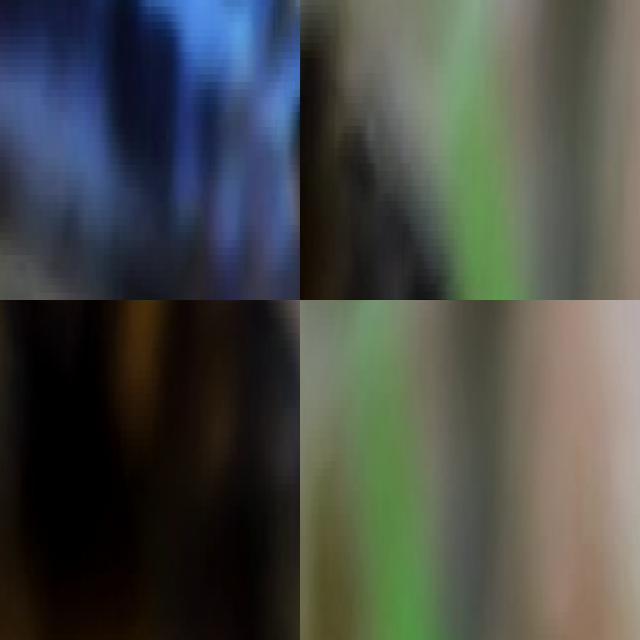fish: (0, 0, 300, 300), (300, 0, 484, 300)
